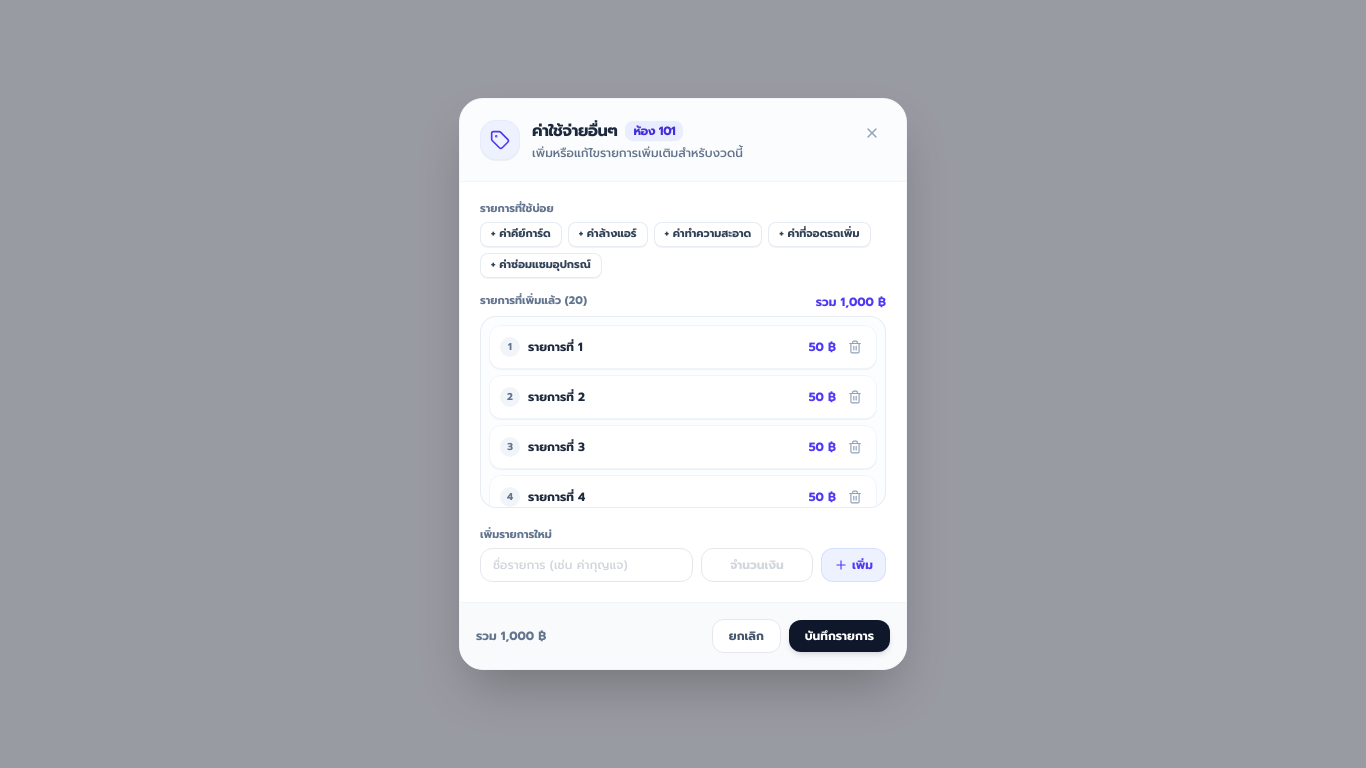
HORPLUS LOCAL-07 — Shared Other Fees Modal UX/UI Suite (Batch C) › C20. Max 20 items constraint blocks adding > 20 items with error message
Step 1. Type "รายการที่ 21" into the field with placeholder "ชื่อรายการ (เช่น ค่ากุญแจ)" → x=586, y=565, box top-left (480, 548), bottom-right (693, 582)
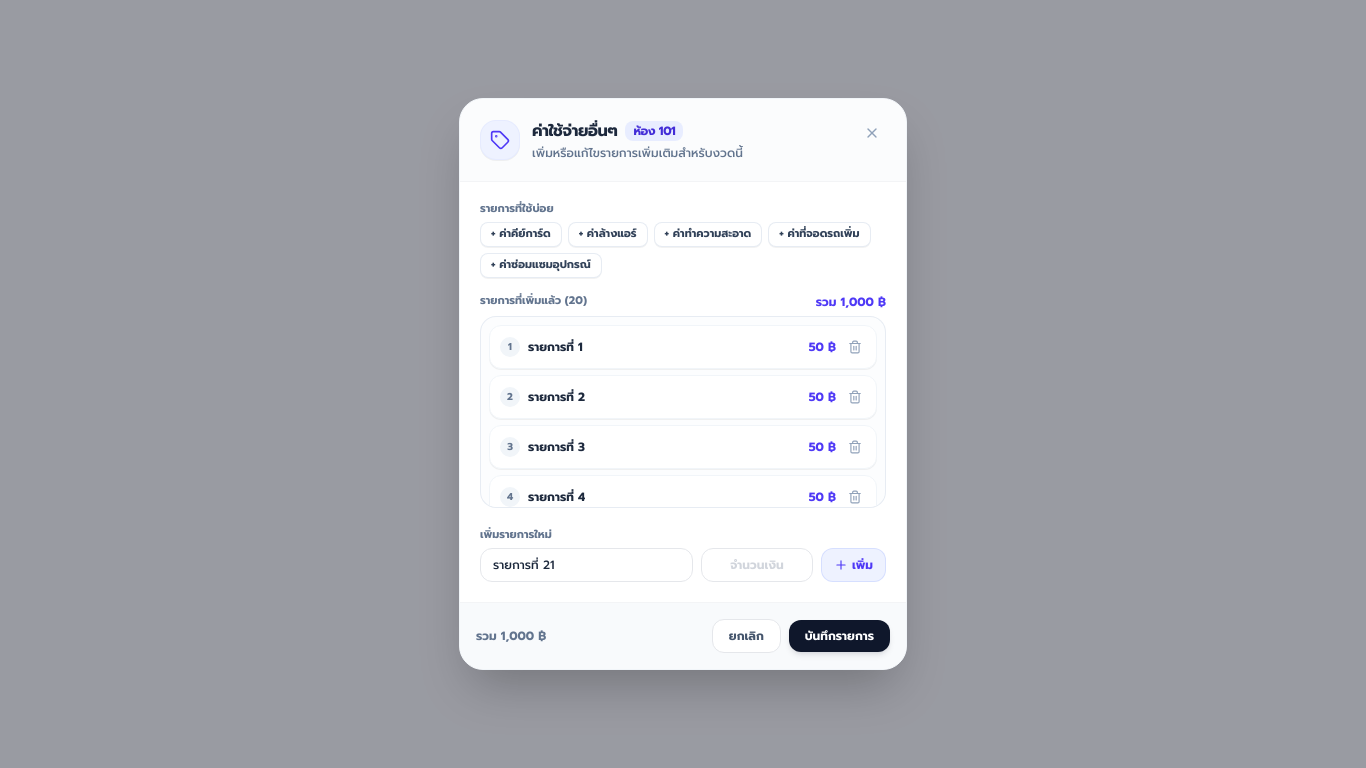
Step 2. Type "100" into the field with placeholder "จำนวนเงิน" → x=757, y=565, box top-left (701, 548), bottom-right (813, 582)
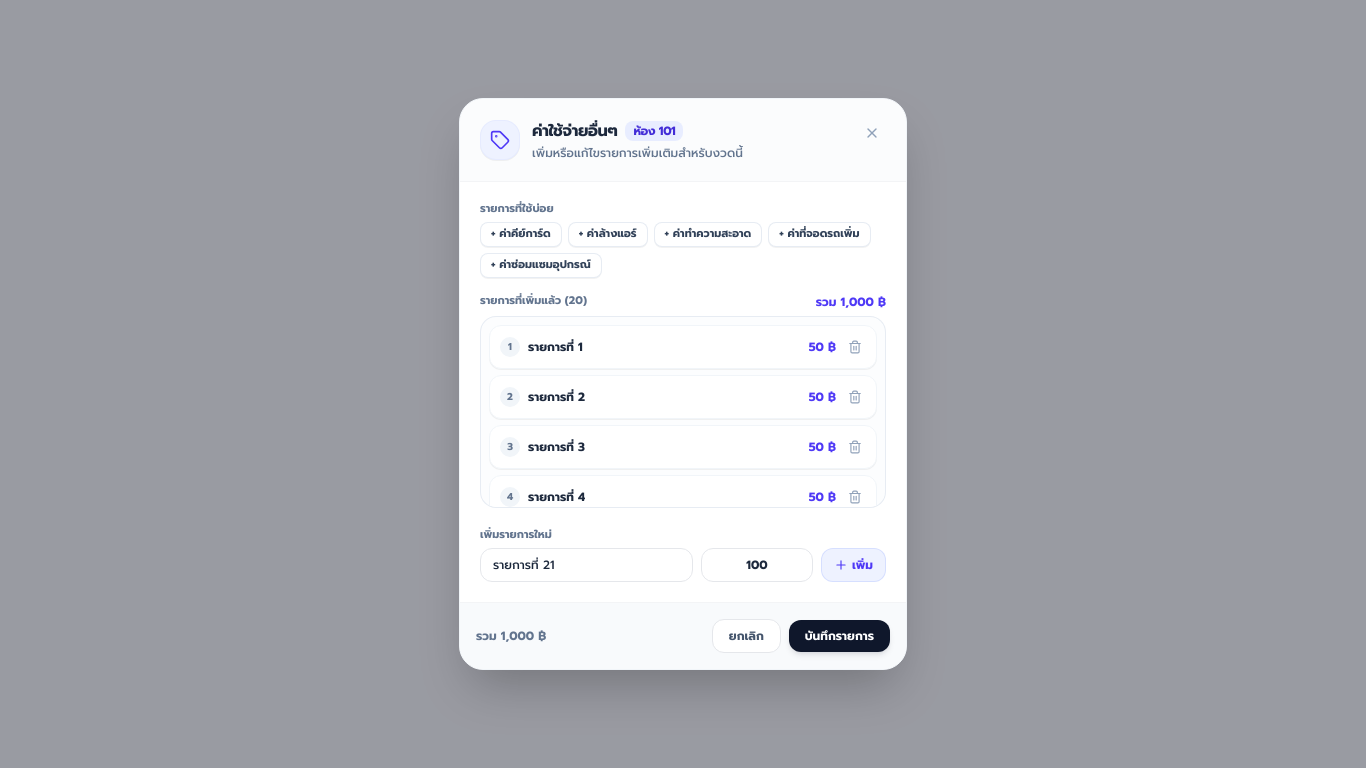
Step 3. Click the button titled "เพิ่มรายการ" → x=854, y=565, box top-left (821, 548), bottom-right (886, 582)
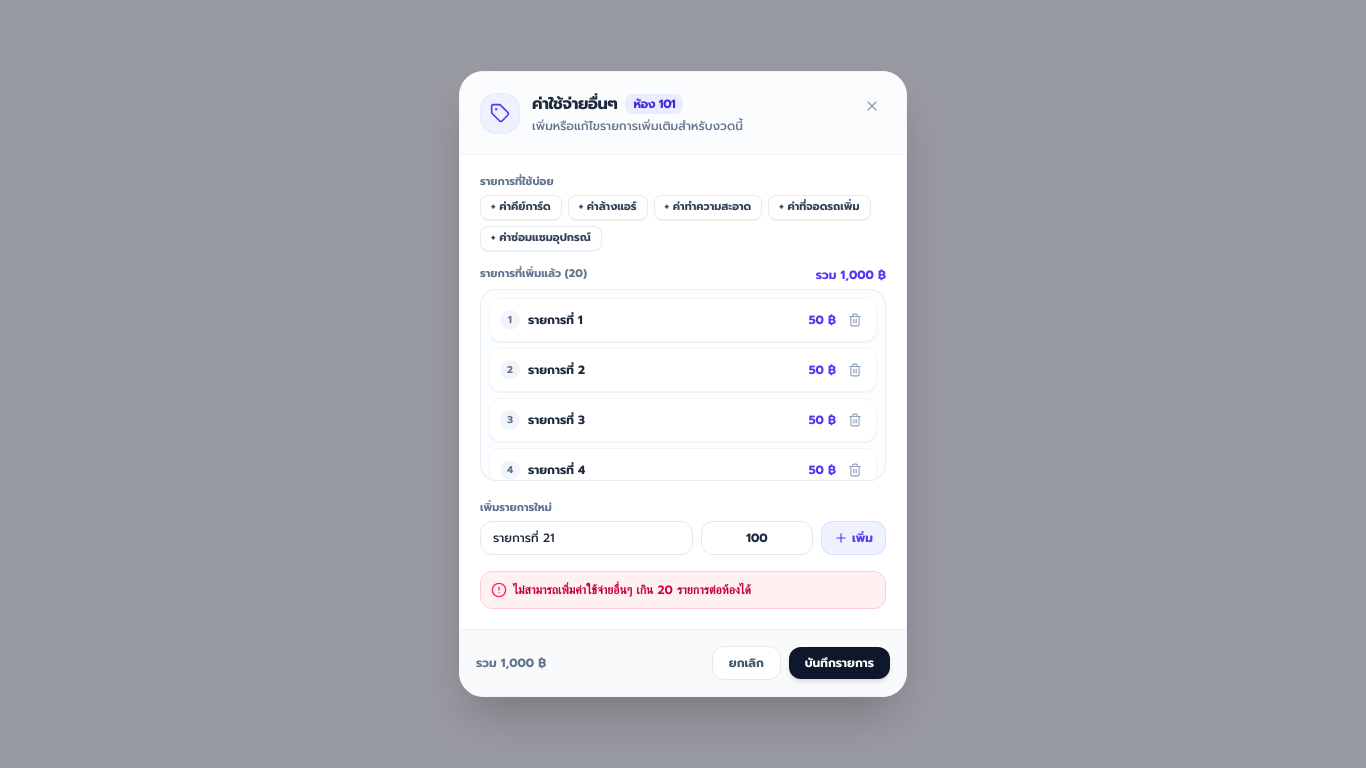
Result: the text "ไม่สามารถเพิ่มค่าใช้จ่ายอื่นๆ เกิน 20 รายการต่อห้องได้" is shown at top-left (513, 582), bottom-right (751, 598)
